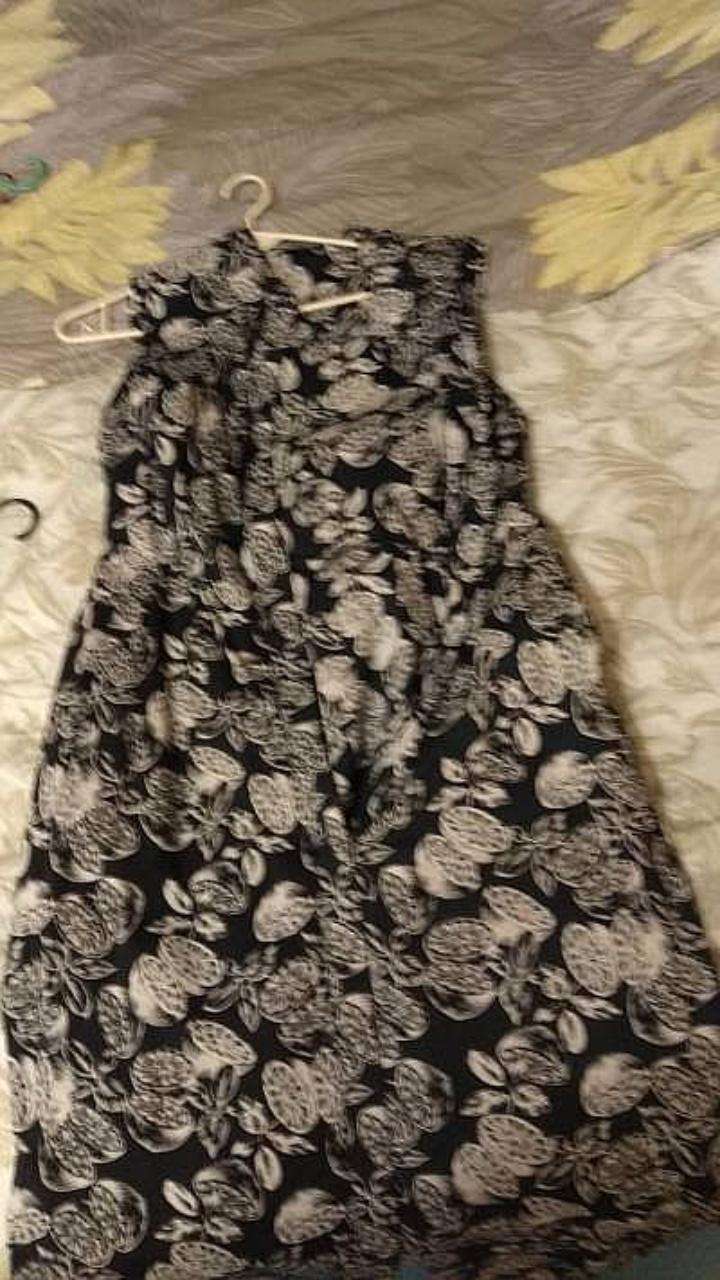Dresses: (3, 228, 719, 1279)
